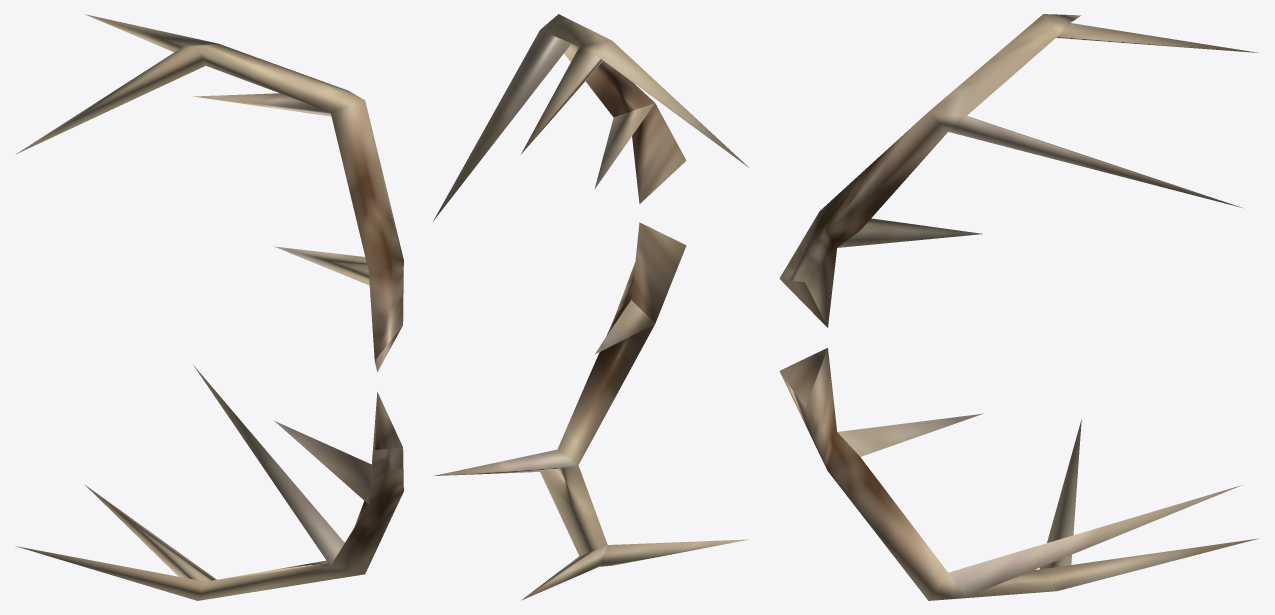
The model's file is deer_antlers.dae.
The picture shows the model from 3 angles, left to right: view 1: azimuth 30°, elevation 25°; view 2: azimuth 150°, elevation 25°; view 3: azimuth 270°, elevation 25°; orthographic projection. The views are drawn at different scales.
Visible parts, largest first — view 1: Object02_PIVOT; view 2: Object02_PIVOT; view 3: Object02_PIVOT.
Part boxes in pixels (left/top/right/bottom): Object02_PIVOT: left=15, top=14, right=403, bottom=600; Object02_PIVOT: left=433, top=14, right=749, bottom=600; Object02_PIVOT: left=779, top=14, right=1259, bottom=600.
Bounding box in the file's own units: 0.6925 × 1 × 1.32.
